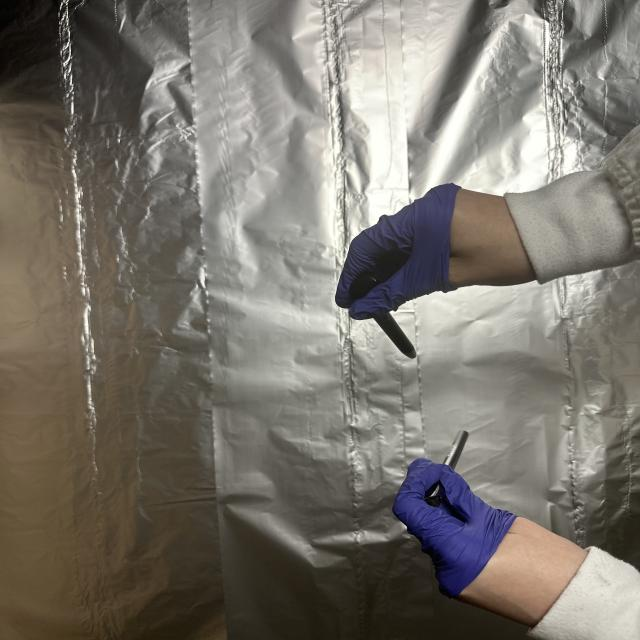glove_partial: (392, 456, 594, 630), (331, 180, 544, 322)
